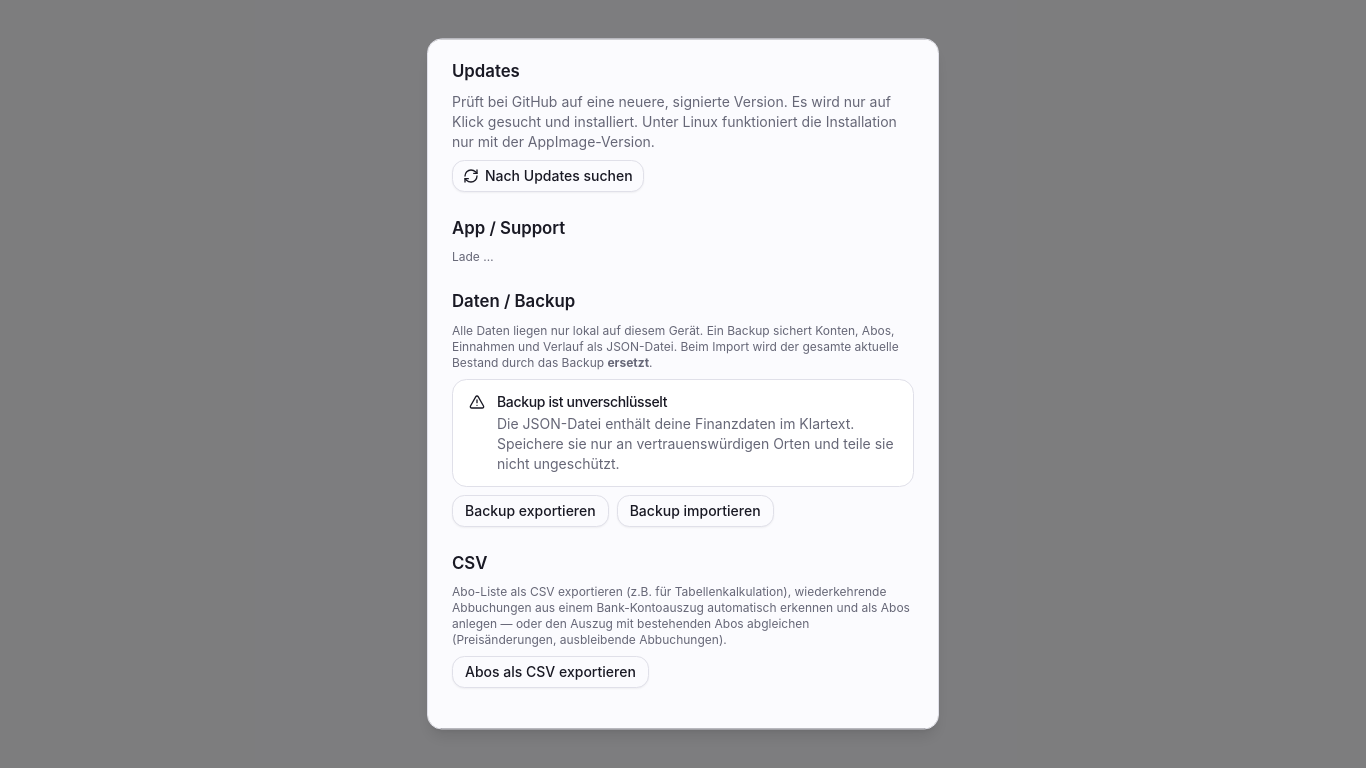
it: SettingsDialog › importiert erst nach Bestätigung und lädt danach die Daten neu
(page scrolled)
Note: Erster Klick zeigt nur den Bestätigungs-Schritt — noch kein Import.
Step 1. Click the button "Backup importieren" → (695, 511), box [617, 495, 774, 527]
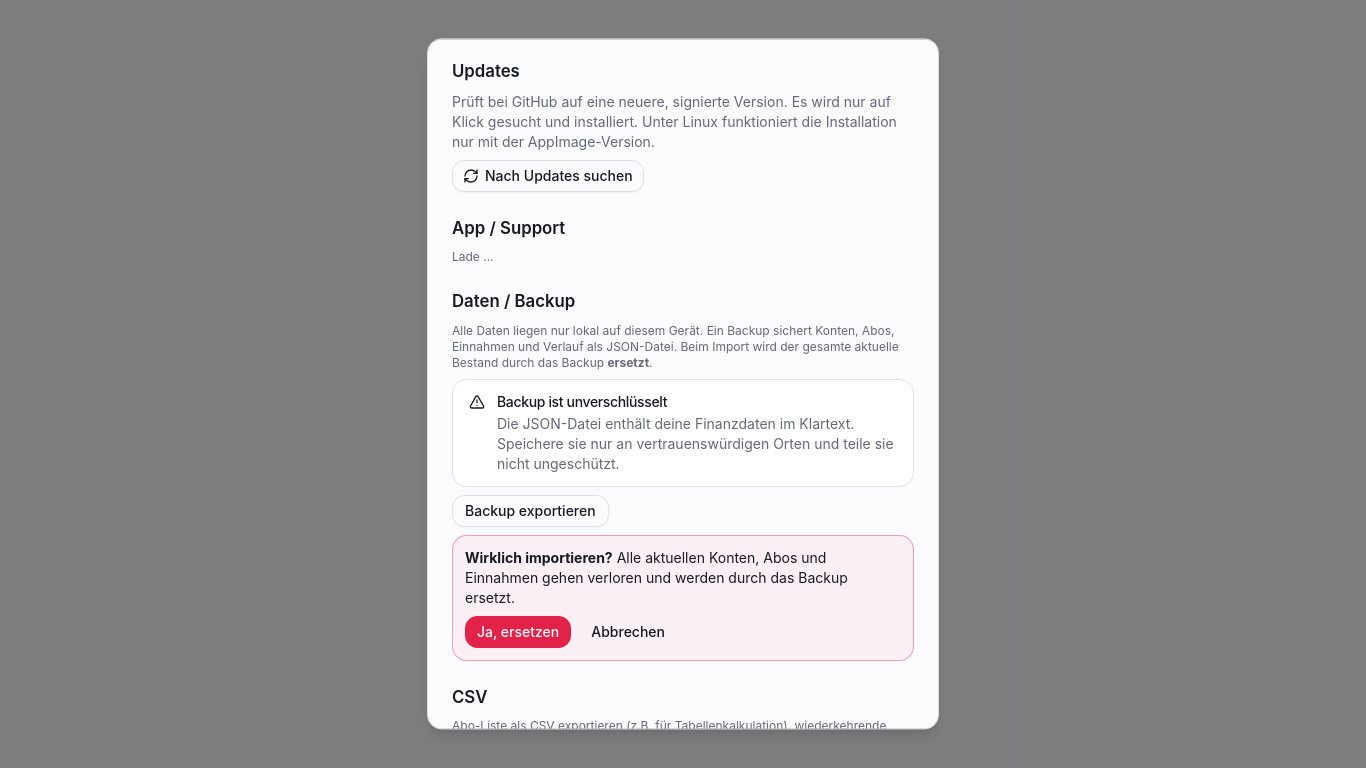
Check: the text "Wirklich importieren?" is shown, box [465, 549, 613, 566]
Step 2. Click the button "Ja, ersetzen" → (518, 632), box [465, 616, 571, 648]
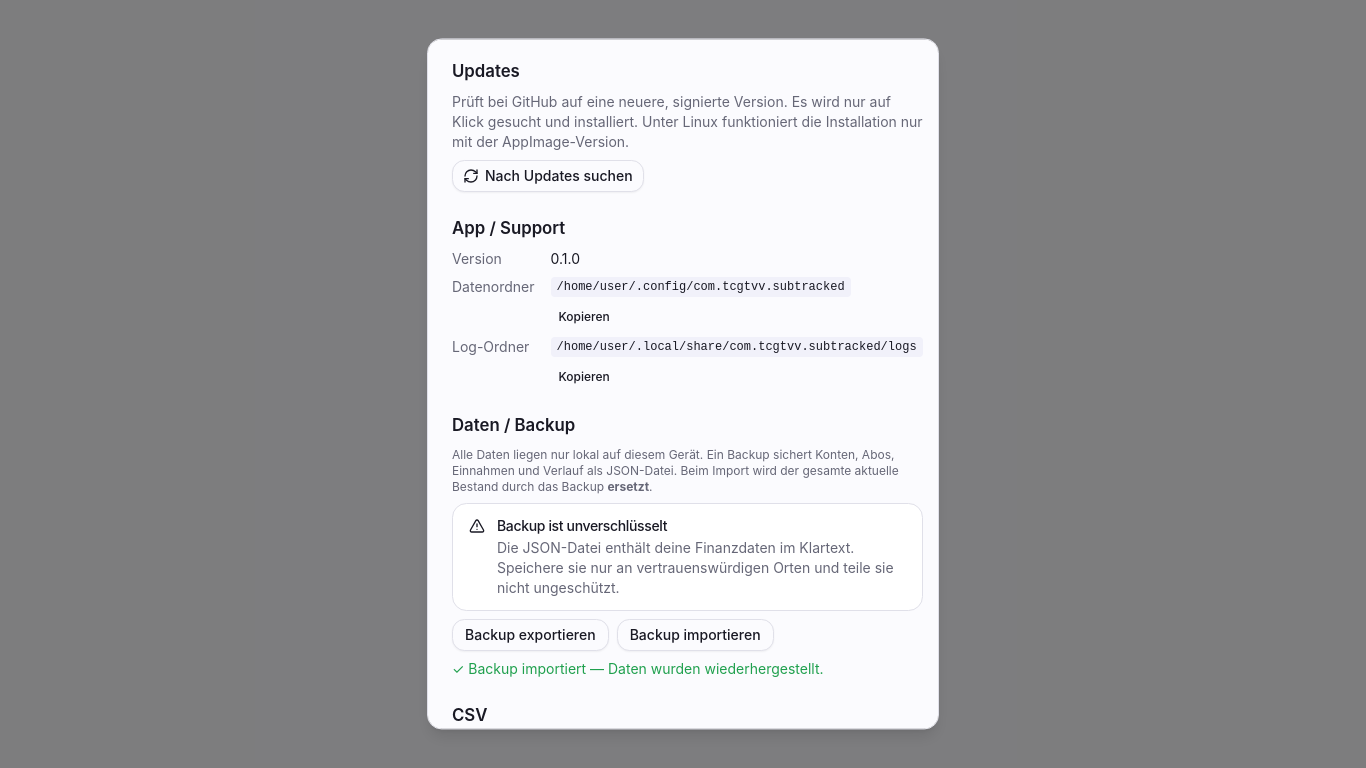
Check: the message shows "importiert", box [452, 660, 824, 677]
